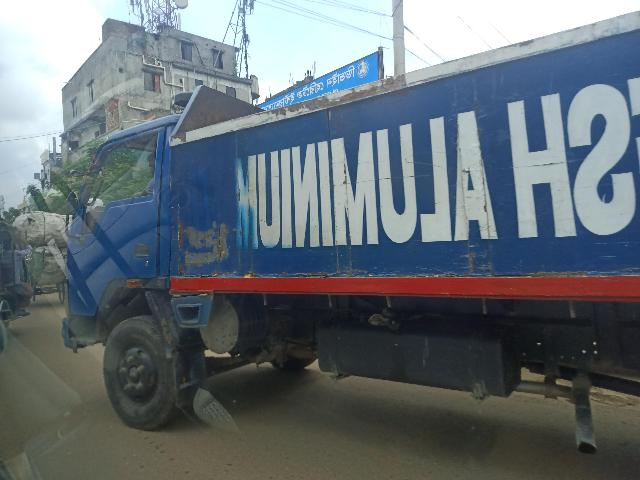truck: (56, 0, 640, 433)
